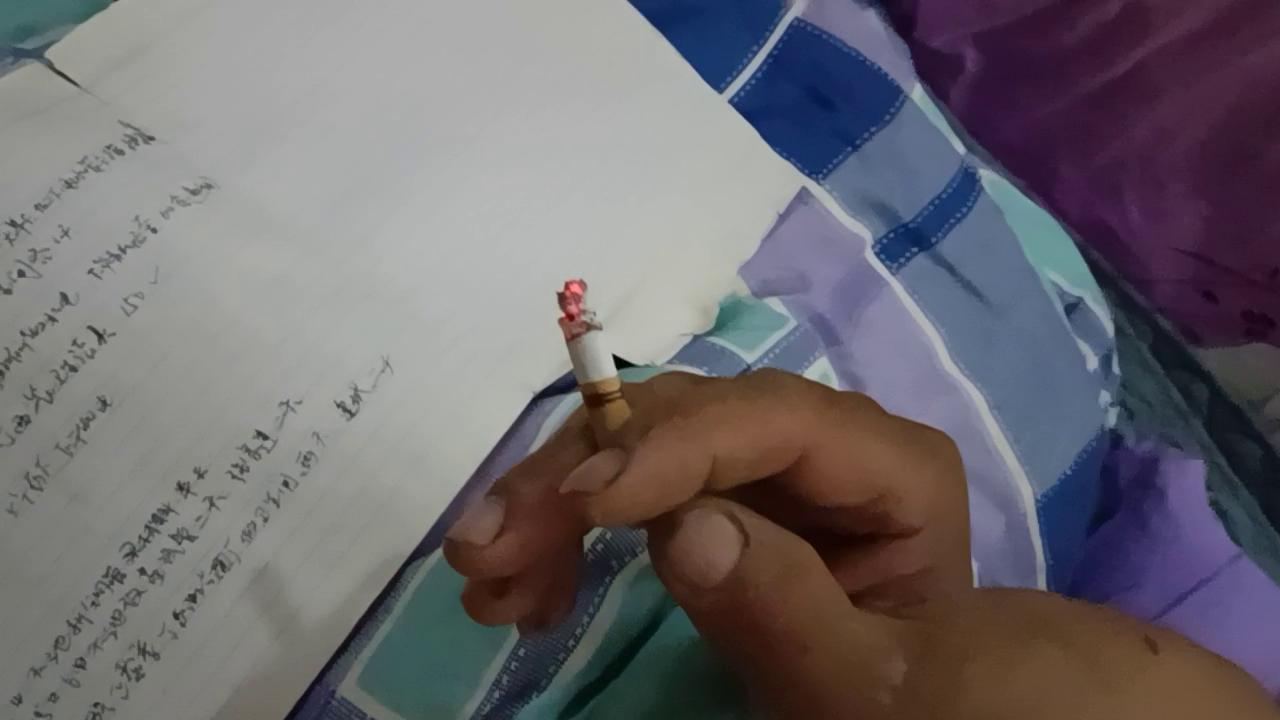smoke: (557, 276, 651, 487)
